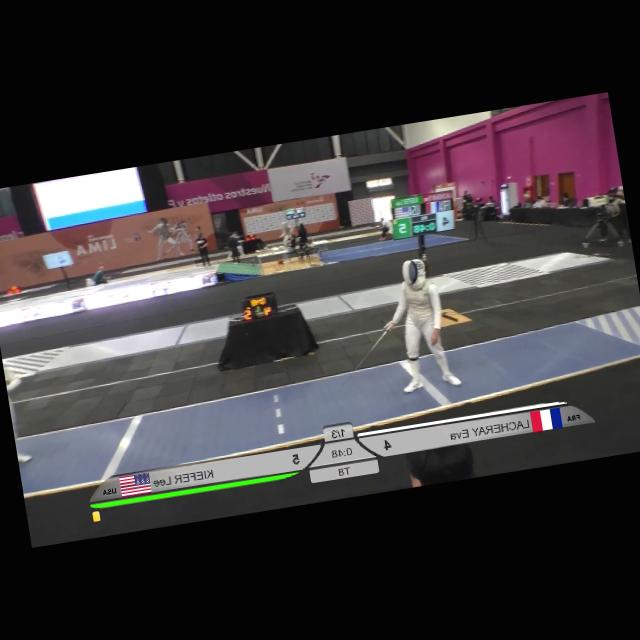blade: (331, 325, 398, 390)
